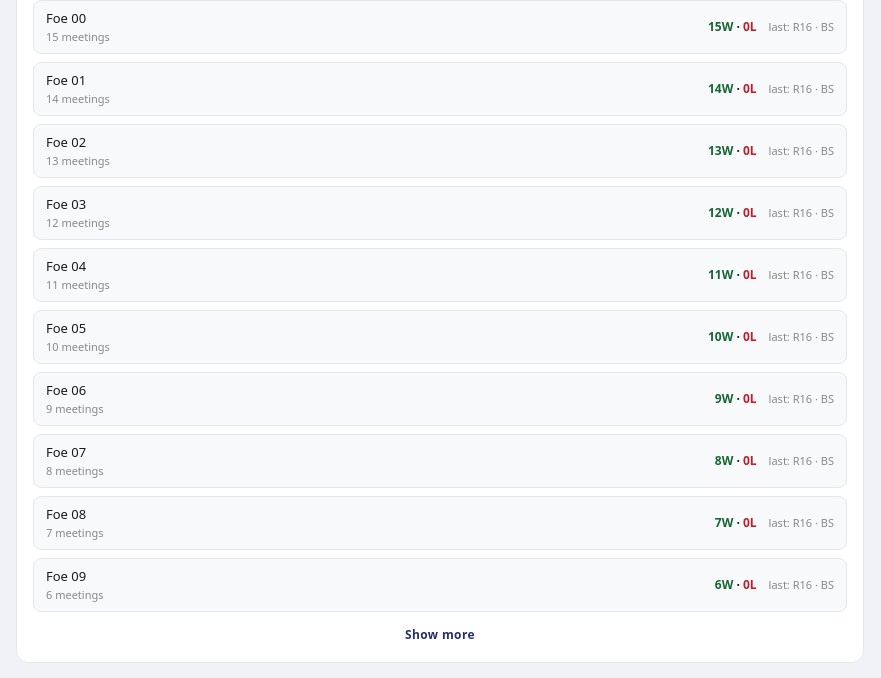
Test case: PlayerProfileView › switching tabs while expanded resets the list back to top 10
(page scrolled)
What coordinates should you click on to do the following:
click the button "Show more"
I would click on:
 (440, 635)
Its box is [393,622,487,648].
(page scrolled)
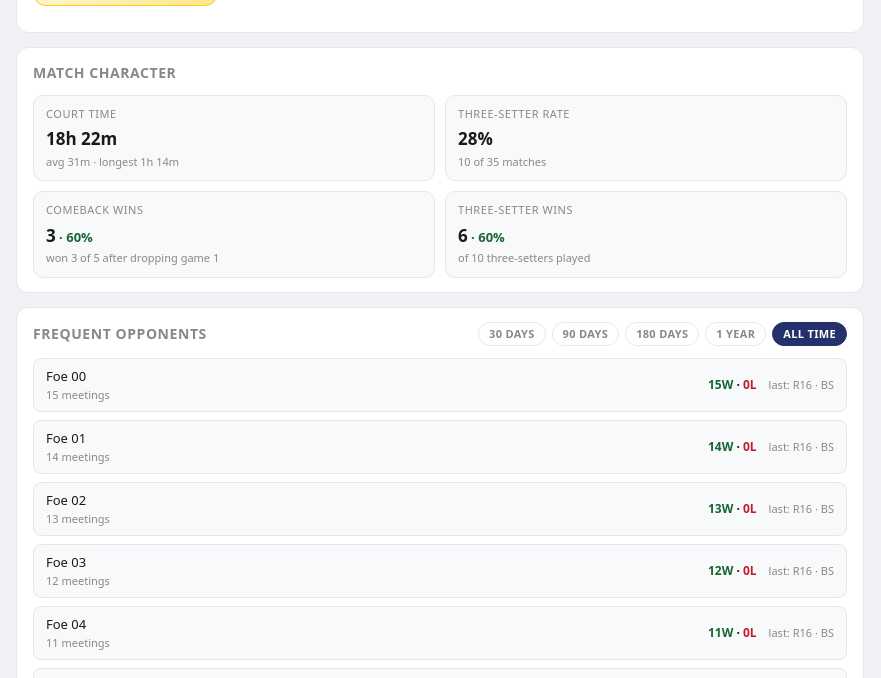
What coordinates should you click on to do the following:
click the tab "30 Days"
I would click on:
 (512, 334)
Its box is [478,322,546,346].
(page scrolled)
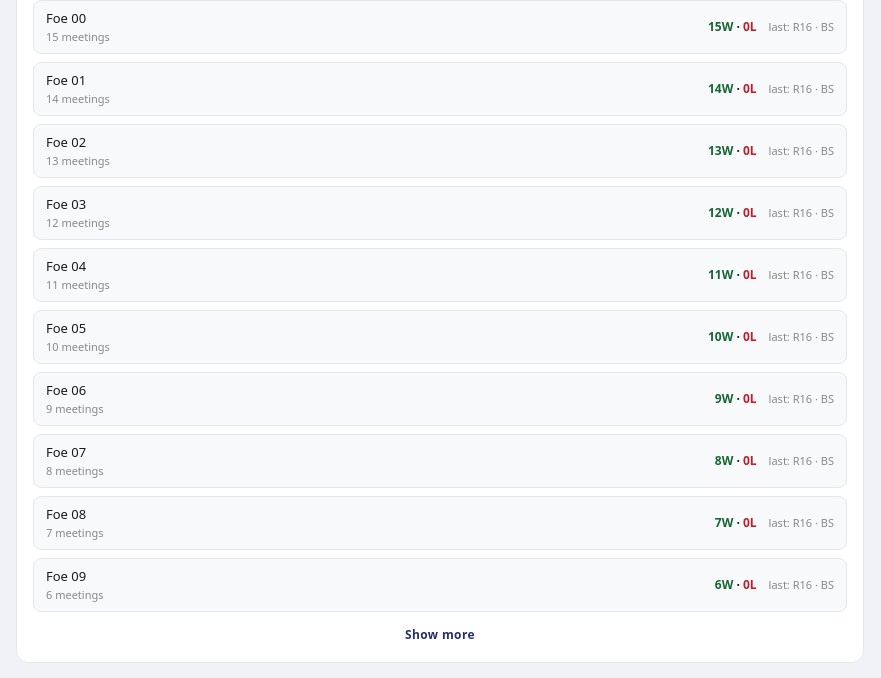
expect the button "Show more" is shown: met, box [393,622,487,648]
